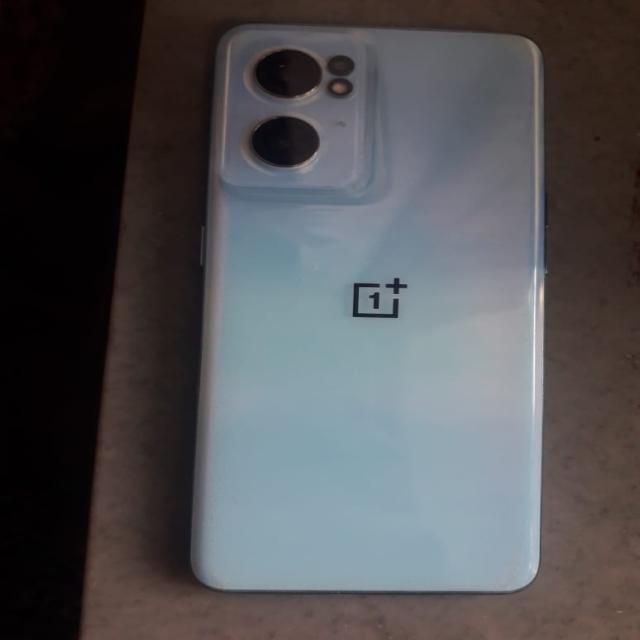phone good: (182, 17, 546, 591)
